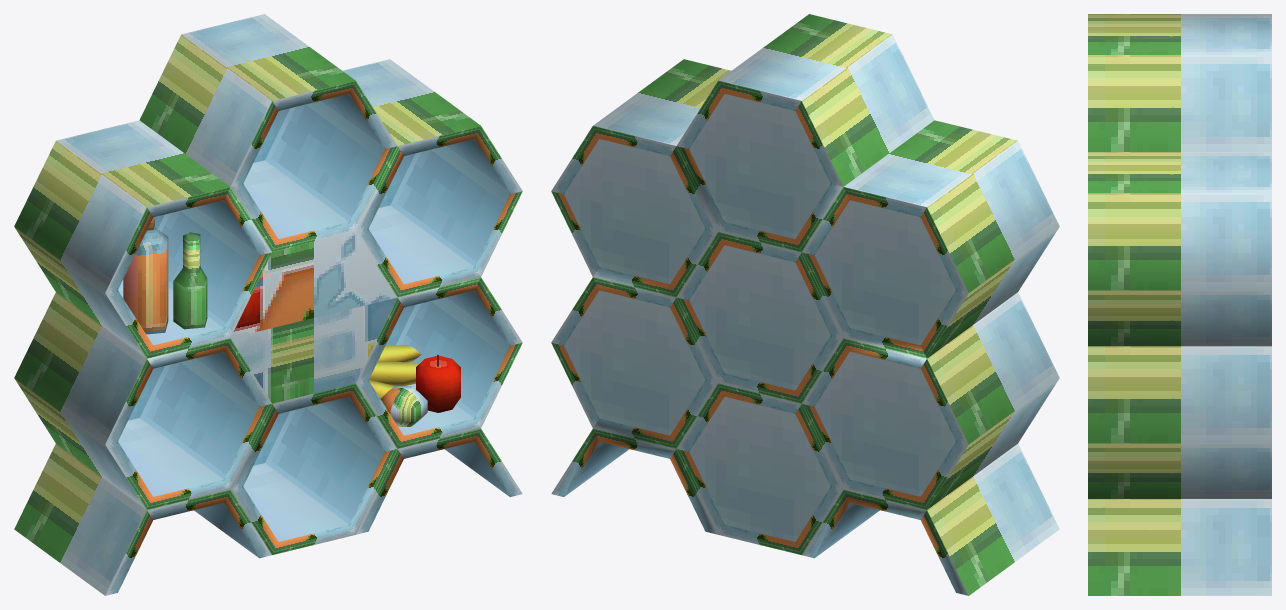
The model's file is int_ice_shelf.dae.
3 views of the same model, side by side, from view 1: azimuth 30°, elevation 25°; view 2: azimuth 150°, elevation 25°; view 3: azimuth 270°, elevation 25° (orthographic).
Visible parts, largest first — view 1: int_ice_shelf; view 2: int_ice_shelf; view 3: int_ice_shelf.
Boxes of the visible parts, left/top/right/bottom form: int_ice_shelf: left=14, top=14, right=522, bottom=595; int_ice_shelf: left=551, top=14, right=1059, bottom=595; int_ice_shelf: left=1088, top=14, right=1271, bottom=595.
Bounding box in the file's own units: 42.93 × 44.61 × 16.2.
1 material, 1 textured.
